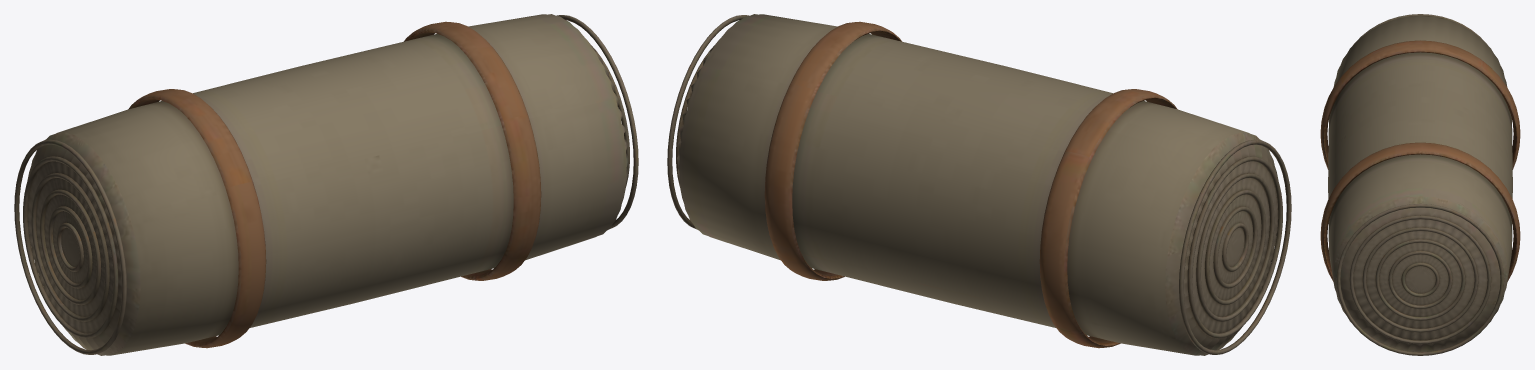
The model's file is felt.glb.
3 renders of one model, left to right at view 1: azimuth 30°, elevation 25°; view 2: azimuth 150°, elevation 25°; view 3: azimuth 270°, elevation 25°, orthographic. The views are drawn at different scales.
Visible parts, largest first — view 1: felt; view 2: felt; view 3: felt.
Boxes of the visible parts, bbox=[...] form: felt: bbox=[14, 14, 638, 355]; felt: bbox=[667, 14, 1291, 355]; felt: bbox=[1320, 14, 1520, 355].
Bounding box in the file's own units: 0.2626 × 0.116 × 0.116.
1 material, 1 textured.
